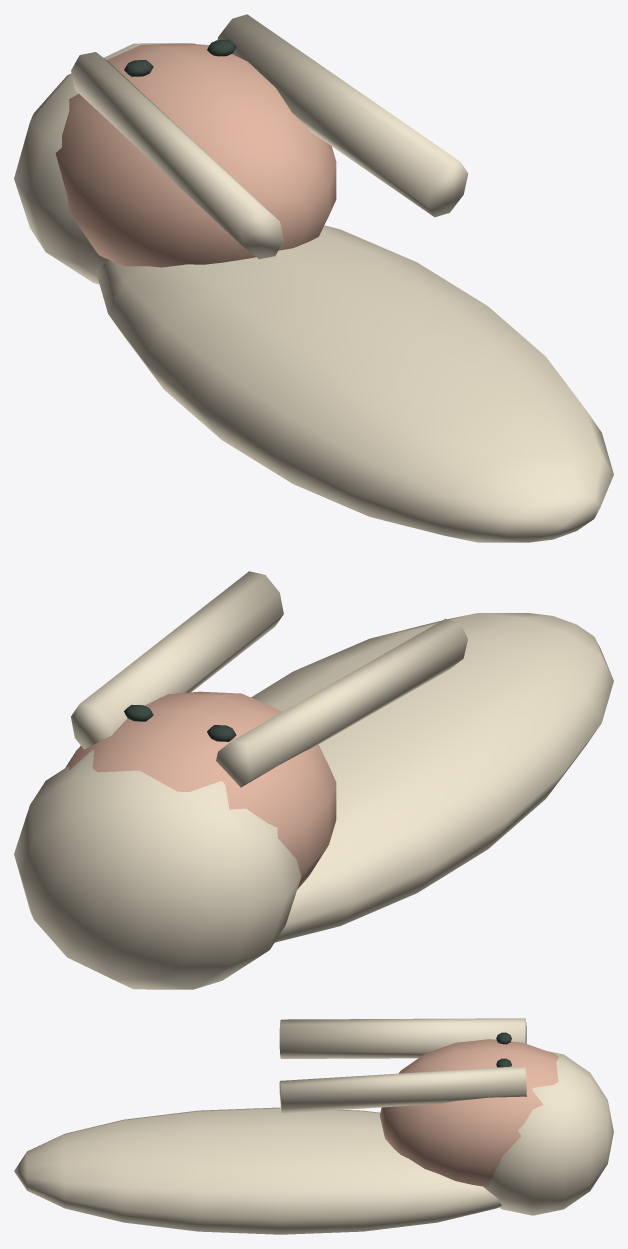
Rendered from SM_W02_Climber_Head.fbx.
The picture shows the model from 3 angles, top to bottom: view 1: azimuth 30°, elevation 25°; view 2: azimuth 150°, elevation 25°; view 3: azimuth 270°, elevation 25°; orthographic projection. The views are drawn at different scales.
Parts seen in each view (by area): view 1: SM_W02_Climber_Head; view 2: SM_W02_Climber_Head; view 3: SM_W02_Climber_Head.
Boxes of the visible parts, x1,y1,x2,y2 form: SM_W02_Climber_Head: (14, 14, 613, 542); SM_W02_Climber_Head: (14, 571, 613, 989); SM_W02_Climber_Head: (14, 1018, 613, 1234).
Size of the model in its own units: 0.63 by 1.66 by 0.5232.
